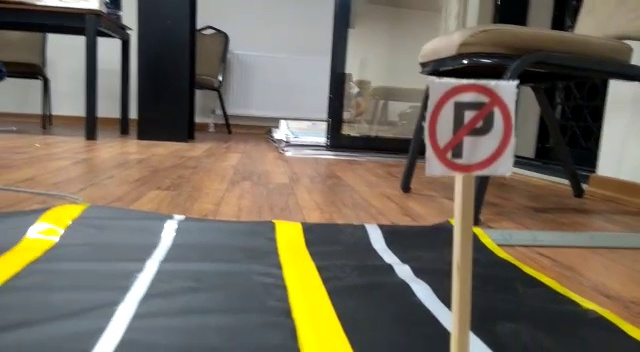park_yapilmaz: (428, 80, 513, 176)
